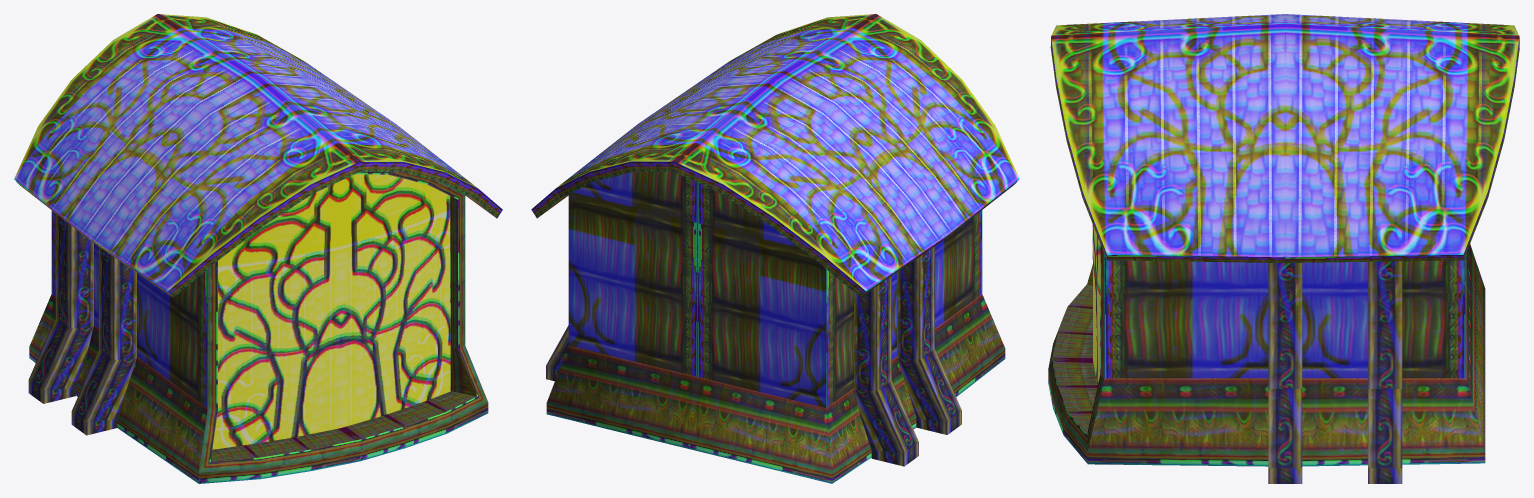
File: e_barracks.FBX
3 renders of one model, left to right at view 1: azimuth 30°, elevation 25°; view 2: azimuth 150°, elevation 25°; view 3: azimuth 270°, elevation 25°, orthographic. The views are drawn at different scales.
Parts seen in each view (by area): view 1: e_barracks; view 2: e_barracks; view 3: e_barracks.
Part boxes in pixels (bbox=[...]): e_barracks: bbox=[14, 14, 502, 483]; e_barracks: bbox=[531, 14, 1019, 483]; e_barracks: bbox=[1048, 14, 1519, 483].
Size of the model in its own units: 200 by 165 by 197.
